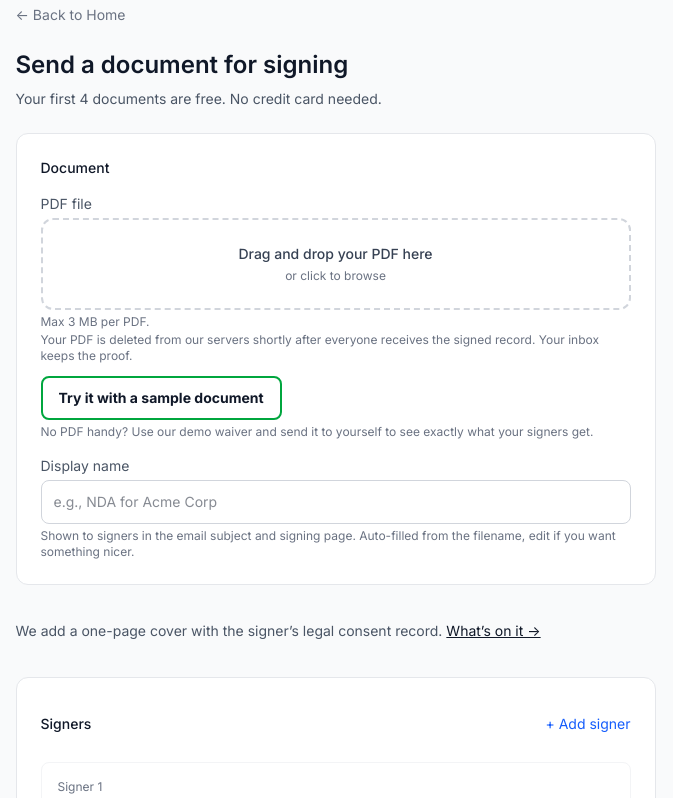
Test: CreateEnvelopePage — the sample-document path (F-44.2 / AC-262) › leaves every signer field untouched — sending it to yourself is the point
(page scrolled)
Click the button "Try it with a sample document". click: (161,398)
box: [40,376,282,420]
(page scrolled)
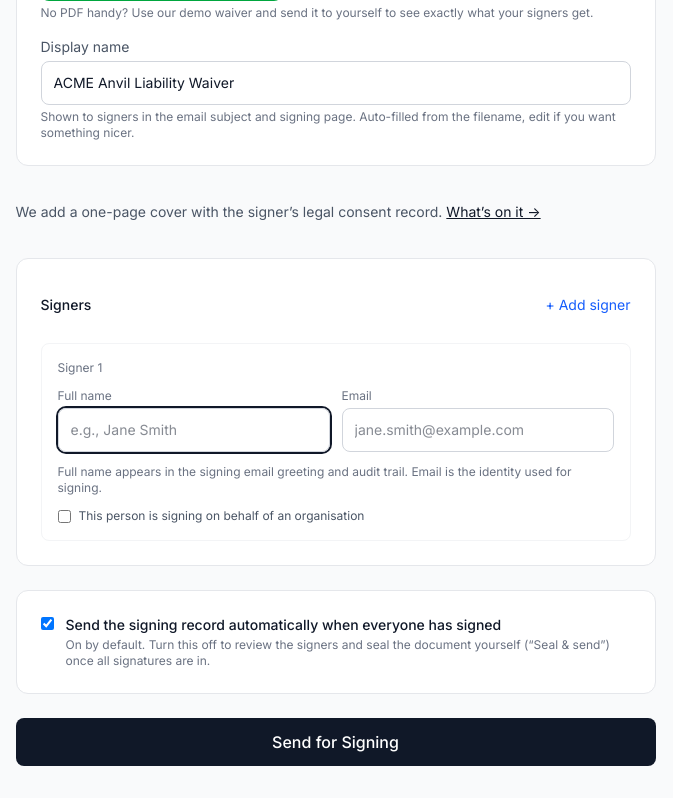
expect the field with placeholder "e.g., Jane Smith" is empty: met, box [58,408,330,452]
expect the field with placeholder "e.g., NDA for Acme Corp" holds "ACME Anvil Liability Waiver": met, box [40,61,630,105]
